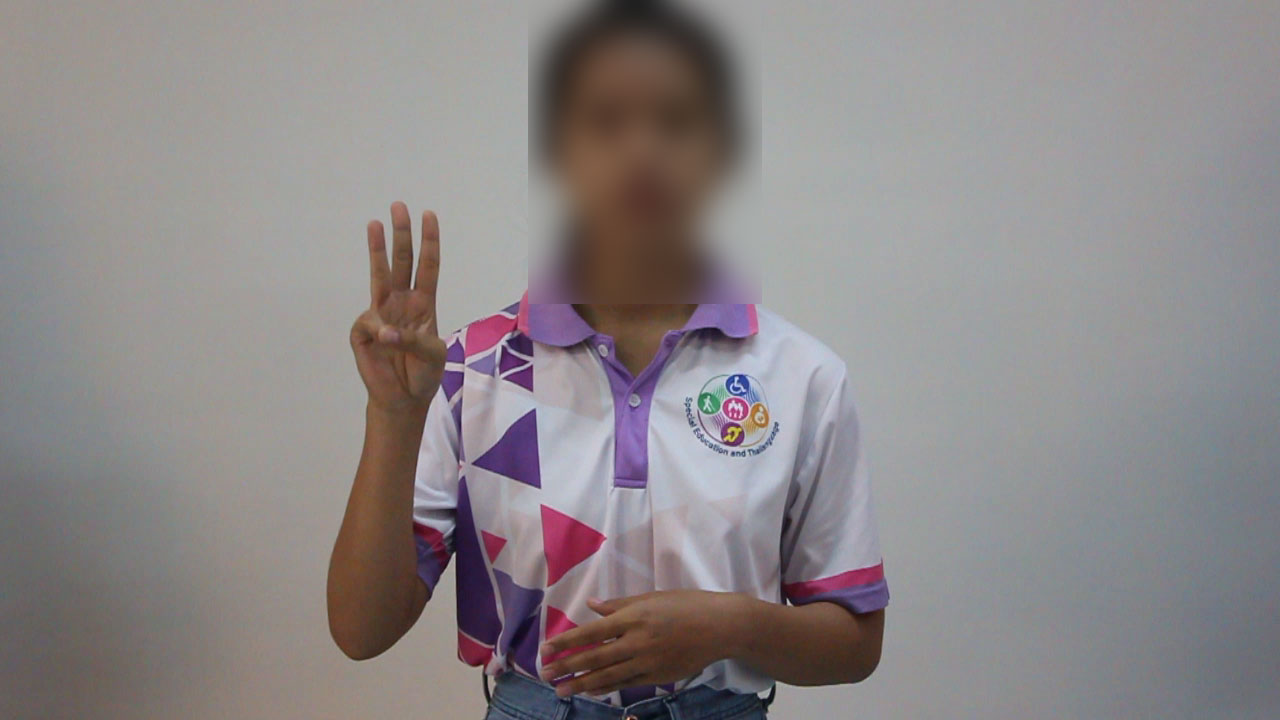wor: (343, 195, 453, 427)
